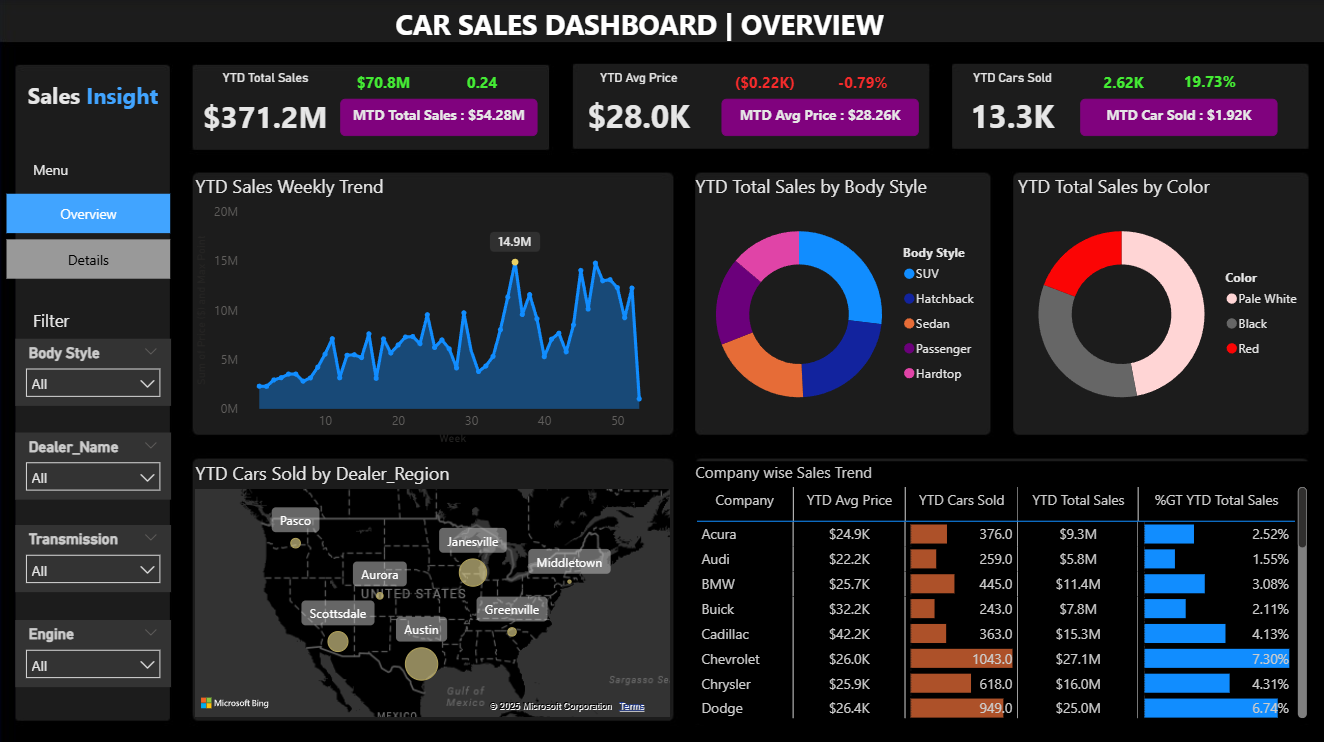

What the dashboard file says about the page in this screenshot:
{"tool":"powerbi","page":{"name":"Overview","canvas":[1280,720],"ordinal":0},"visuals":[{"type":"card","title":"YTD Total Sales","fields":{"Values":["car_data.YTD Total Sales"]},"box":[186.1,67.8,142.8,76.5],"z":0},{"type":"card","fields":{"Values":["car_data.Sales Difference"]},"box":[329.6,67.9,84,27.2],"z":1000},{"type":"card","fields":{"Values":["car_data.YoY Sales Growth"]},"box":[424.2,67.8,83.7,27.4],"z":2000},{"type":"card","fields":{"Values":["car_data.MTD KPI"]},"box":[329.6,95.1,190.1,35.8],"z":3000},{"type":"card","title":"YTD Avg Price","fields":{"Values":["car_data.YTD Avg Price"]},"box":[552.6,67.8,129.8,76.5],"z":4000},{"type":"card","fields":{"Values":["car_data.Avg Price Diff"]},"box":[697.5,67.9,84,27.2],"z":5000},{"type":"card","fields":{"Values":["car_data.YOY Avg Price Growth"]},"box":[792.6,67.9,82.7,27.2],"z":6000},{"type":"card","fields":{"Values":["car_data.MTD Avg Price KPI"]},"box":[697.5,95.1,190.1,35.8],"z":7000},{"type":"card","title":"YTD Cars Sold","fields":{"Values":["car_data.YTD Cars Sold"]},"box":[913.6,67.9,129.6,76.5],"z":8000},{"type":"card","fields":{"Values":["car_data.Cars Sold Diff"]},"box":[1043.2,67.9,84,27.2],"z":9000},{"type":"card","fields":{"Values":["car_data.YOY Car Sold Growth"]},"box":[1127.2,63,84,37],"z":10000},{"type":"card","fields":{"Values":["car_data.MTD Car Sold KPI"]},"box":[1043.2,95.1,190.1,35.8],"z":11000},{"type":"areaChart","title":"YTD Sales Weekly Trend","fields":{"Category":["Calender Table.Week"],"Y":["Sum(car_data.Price ($))","car_data.Max Point"]},"box":[185.1,167.3,455.6,267],"z":12000},{"type":"donutChart","fields":{"Y":["car_data.YTD Total Sales"],"Category":["car_data.Body Style"]},"box":[667.4,167.3,288.3,249.2],"z":13000},{"type":"donutChart","fields":{"Y":["car_data.YTD Total Sales"],"Category":["car_data.Color"]},"box":[978.9,167.3,288.3,249.2],"z":14000},{"type":"map","fields":{"Category":["car_data.Dealer_Region"],"Size":["car_data.YTD Cars Sold"]},"box":[185.1,444.9,468.1,252.7],"z":15000},{"type":"tableEx","title":"Company wise Sales Trend","fields":{"Values":["car_data.Company","car_data.YTD Avg Price","car_data.YTD Cars Sold","car_data.YTD Total Sales1","car_data.YTD Total Sales"]},"box":[667,445.2,600.2,253.2],"z":16000},{"type":"textbox","box":[339,0,558.3,46.2],"z":17000},{"type":"slicer","fields":{"Values":["car_data.Body Style"]},"box":[15.9,327.5,150,64.9],"z":18000},{"type":"slicer","fields":{"Values":["car_data.Dealer_Name"]},"box":[15.9,417,150,64.9],"z":19000},{"type":"slicer","fields":{"Values":["car_data.Transmission"]},"box":[15.9,506.4,150,64.9],"z":20000},{"type":"slicer","fields":{"Values":["car_data.Engine"]},"box":[15.9,598.7,150,64.9],"z":21000},{"type":"textbox","box":[27.4,292.9,63.5,34.6],"z":22000},{"type":"textbox","box":[15.9,72.1,150,40.4],"z":23000},{"type":"textbox","box":[27.4,150,54.8,34.6],"z":24000},{"type":"pageNavigator","box":[7.2,187.6,158.7,83.7],"z":25000}]}

Visuals, with their boxes on the page's 1280x720 design canvas (x1, y1, x2, y2). These are canvas units, not pixel positions in the 1324x742 screenshot, which may show the page scaled, cropped or inside an application window:
"YTD Total Sales" card: BBox(186, 68, 329, 144)
card - car_data.Sales Difference: BBox(330, 68, 414, 95)
card - car_data.YoY Sales Growth: BBox(424, 68, 508, 95)
card - car_data.MTD KPI: BBox(330, 95, 520, 131)
"YTD Avg Price" card: BBox(553, 68, 682, 144)
card - car_data.Avg Price Diff: BBox(698, 68, 782, 95)
card - car_data.YOY Avg Price Growth: BBox(793, 68, 875, 95)
card - car_data.MTD Avg Price KPI: BBox(698, 95, 888, 131)
"YTD Cars Sold" card: BBox(914, 68, 1043, 144)
card - car_data.Cars Sold Diff: BBox(1043, 68, 1127, 95)
card - car_data.YOY Car Sold Growth: BBox(1127, 63, 1211, 100)
card - car_data.MTD Car Sold KPI: BBox(1043, 95, 1233, 131)
"YTD Sales Weekly Trend" areaChart: BBox(185, 167, 641, 434)
donutChart - car_data.YTD Total Sales x car_data.Body Style: BBox(667, 167, 956, 416)
donutChart - car_data.YTD Total Sales x car_data.Color: BBox(979, 167, 1267, 416)
map - car_data.Dealer_Region x car_data.YTD Cars Sold: BBox(185, 445, 653, 698)
"Company wise Sales Trend" tableEx: BBox(667, 445, 1267, 698)
textbox: BBox(339, 0, 897, 46)
slicer - car_data.Body Style: BBox(16, 328, 166, 392)
slicer - car_data.Dealer_Name: BBox(16, 417, 166, 482)
slicer - car_data.Transmission: BBox(16, 506, 166, 571)
slicer - car_data.Engine: BBox(16, 599, 166, 664)
textbox: BBox(27, 293, 91, 328)
textbox: BBox(16, 72, 166, 112)
textbox: BBox(27, 150, 82, 185)
pageNavigator: BBox(7, 188, 166, 271)
